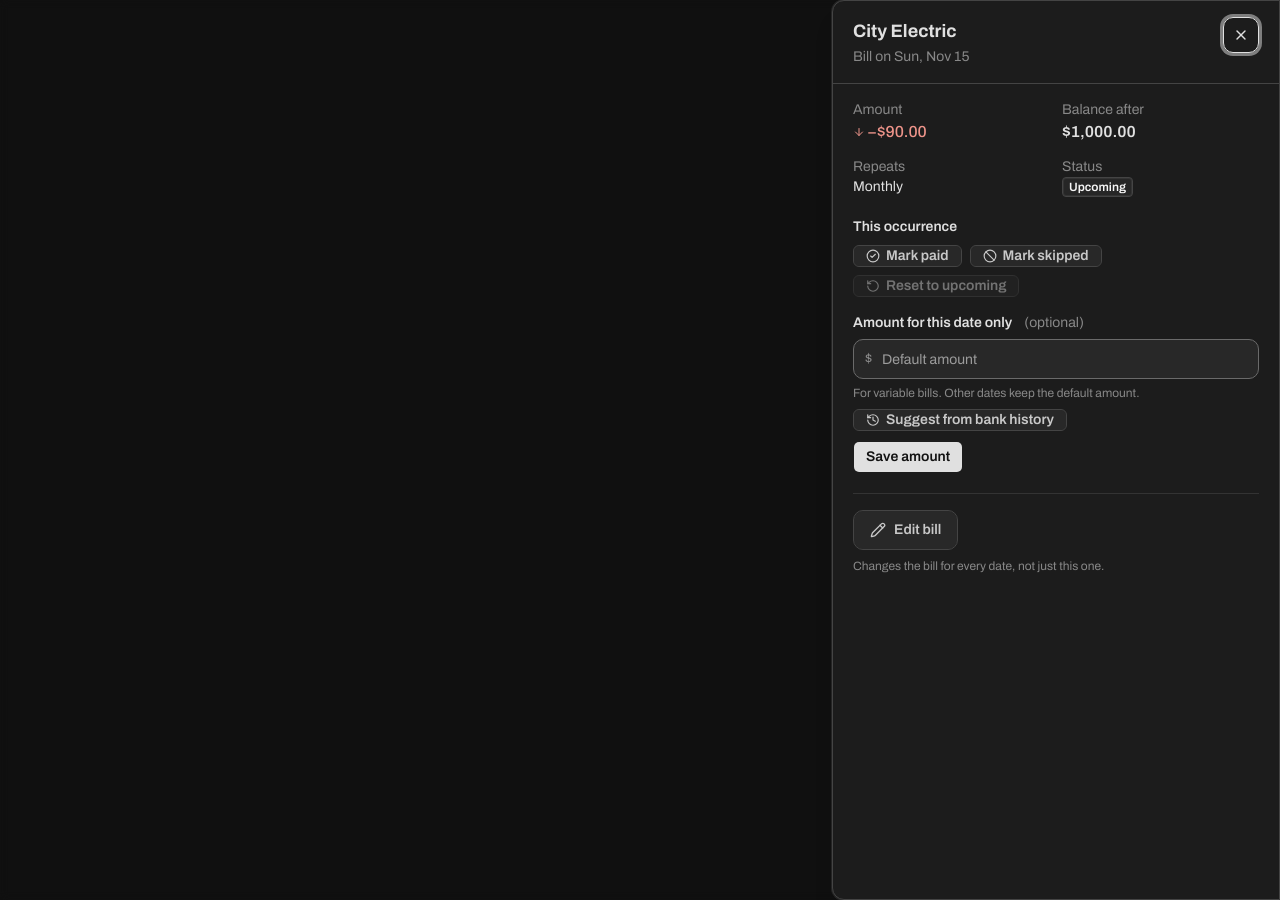
Test: bill estimate in the occurrence dialog › shows a suggestion and puts it in the amount field only when asked, without saving
Click the button with test id "occurrence-estimate-suggest": [960, 420] box [853,409,1067,431]
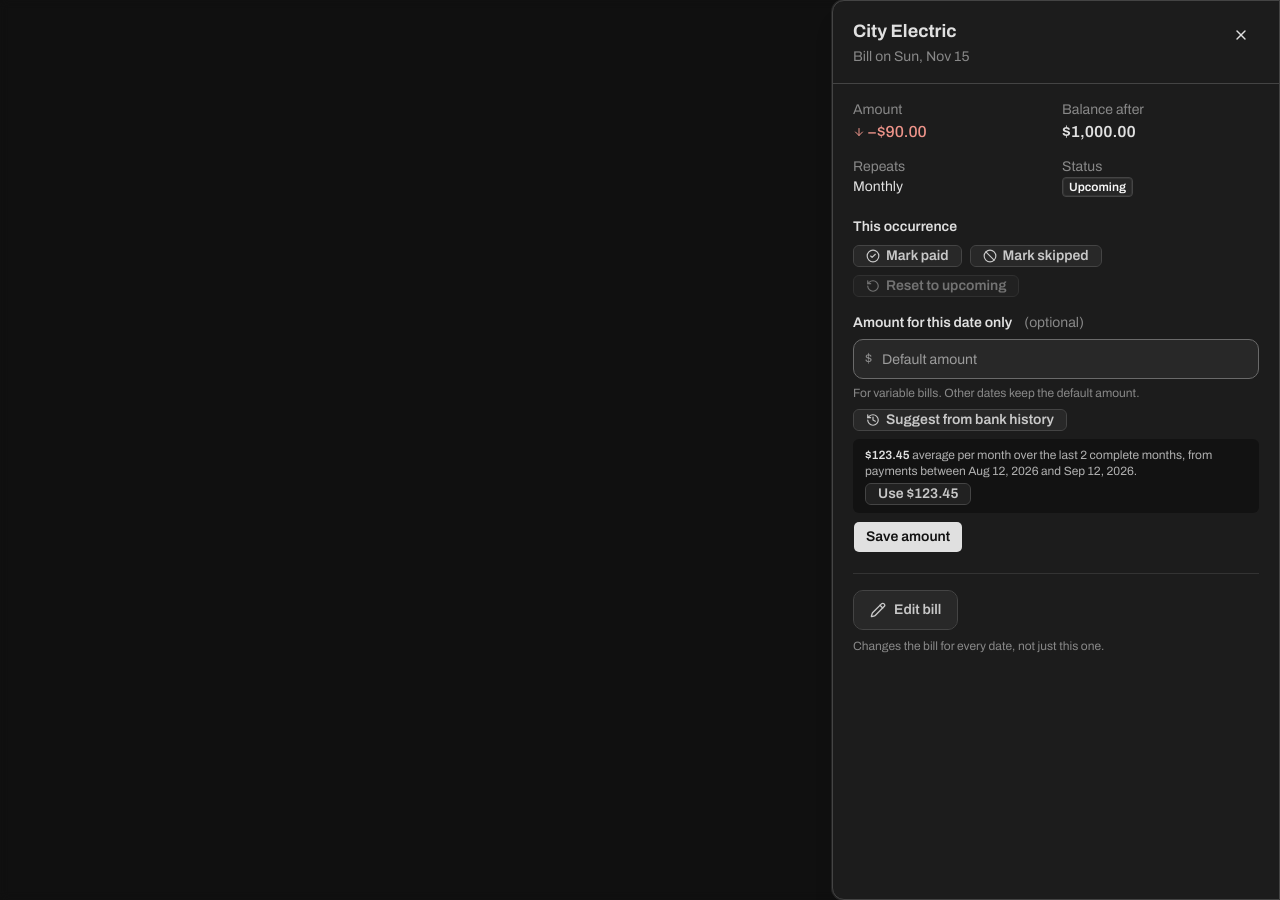
Expected: the field with test id "occurrence-override" is empty, [853,339,1259,379]
Now the element with test id "occurrence-estimate-result" shows "$123.45", box [865,448,910,462]
Now the element with test id "occurrence-estimate-result" shows "last 2 complete months", box [912,448,1182,462]
Click the button with test id "occurrence-estimate-use": [918, 494] box [865,483,972,505]
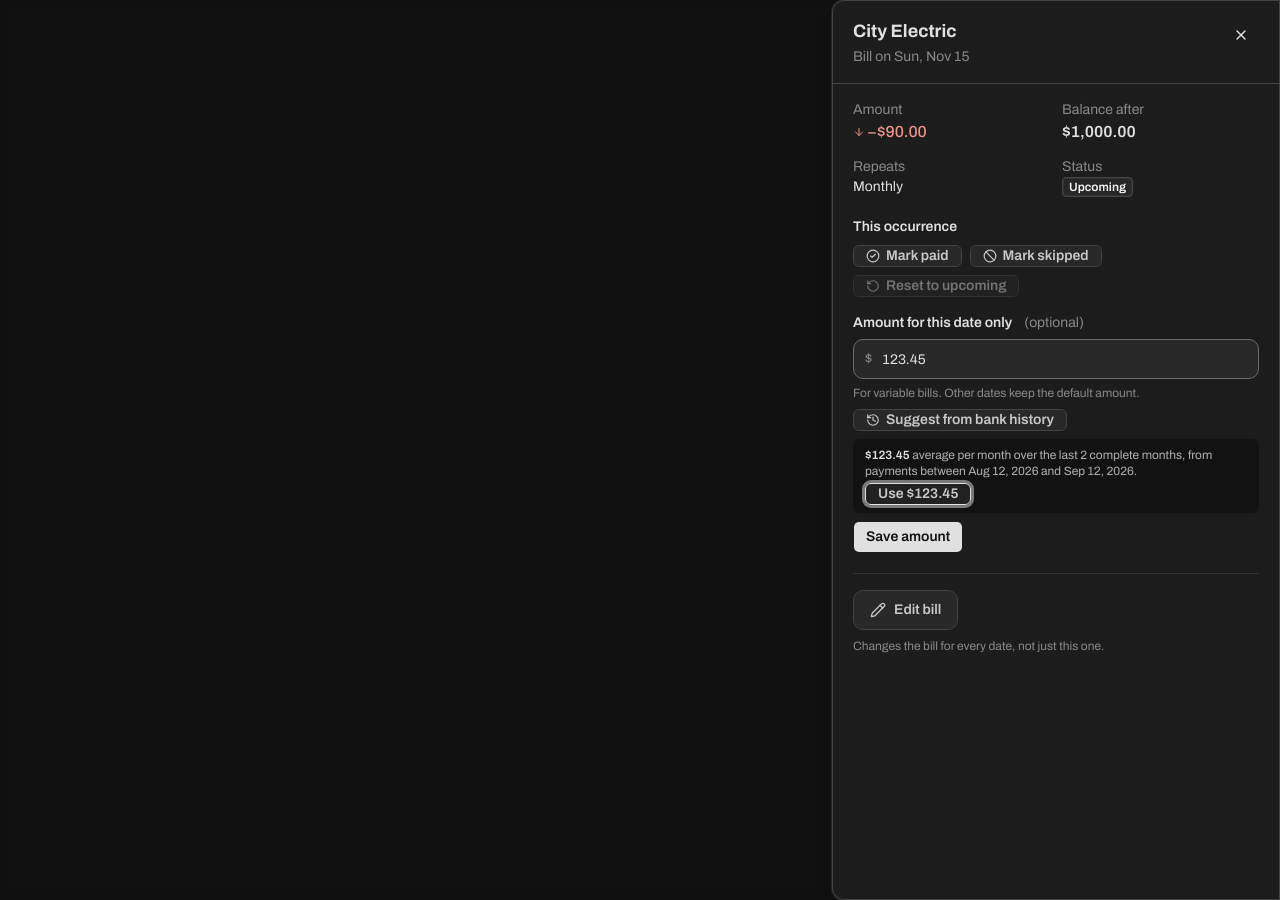
Now the field with test id "occurrence-override" holds "123.45", box [853,339,1259,379]
